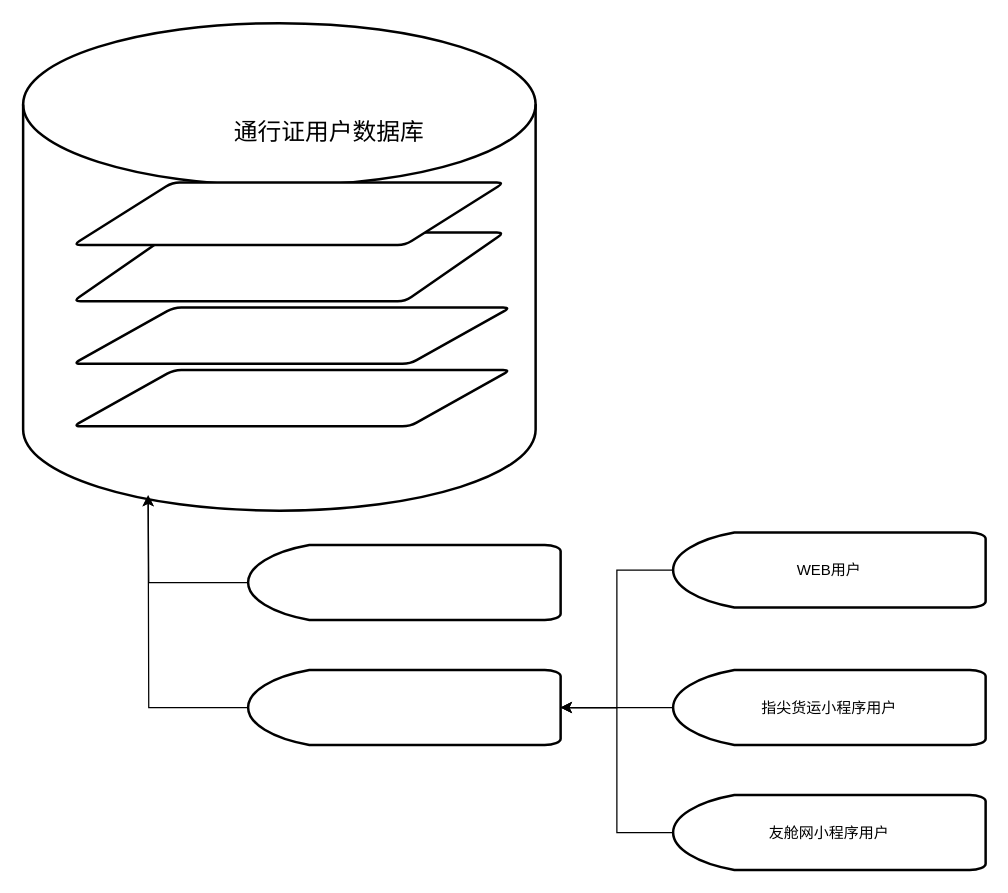
Image size: 1008x893. Some labels were removed from this diagram. Each missing label, with the centre of its shape:
友舱网注册用户(迁移): point 403,707
通行证注册用户: point 403,582
